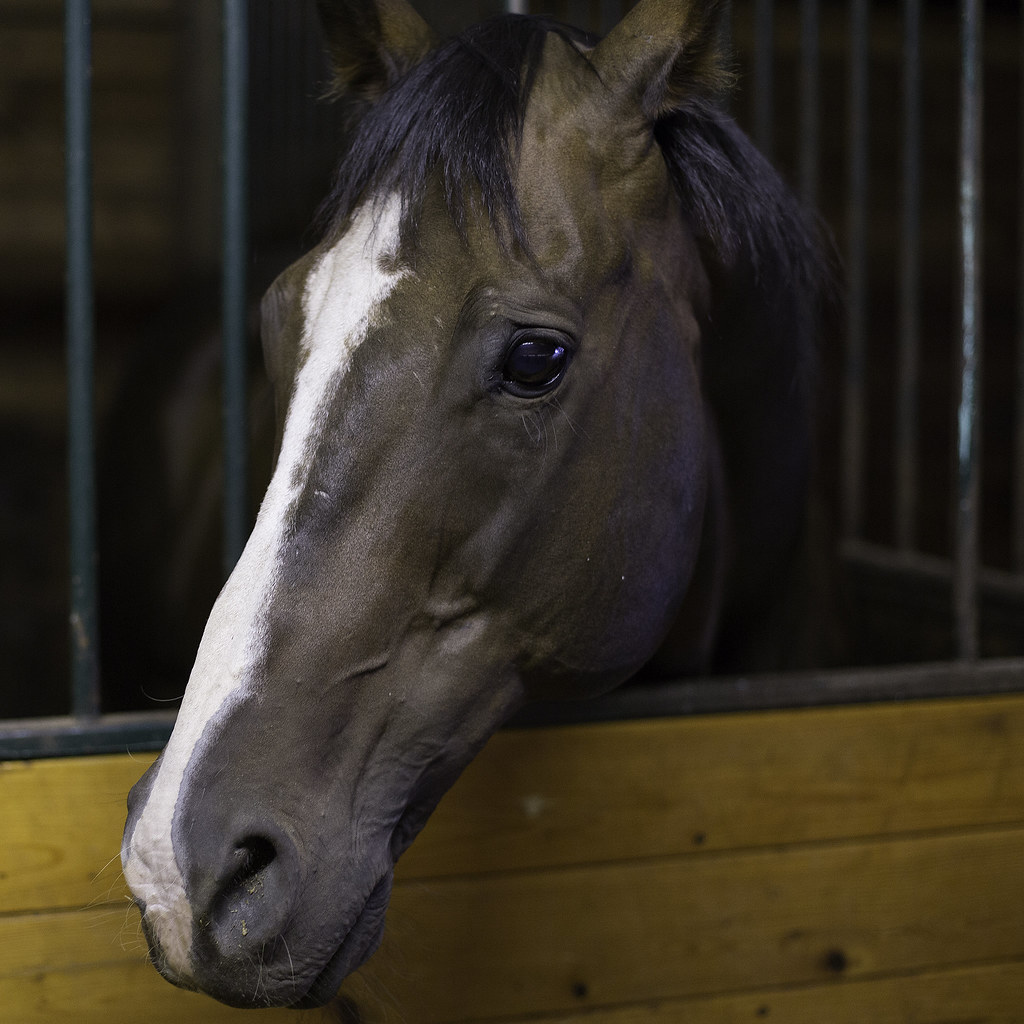horse: (75, 3, 827, 1010)
